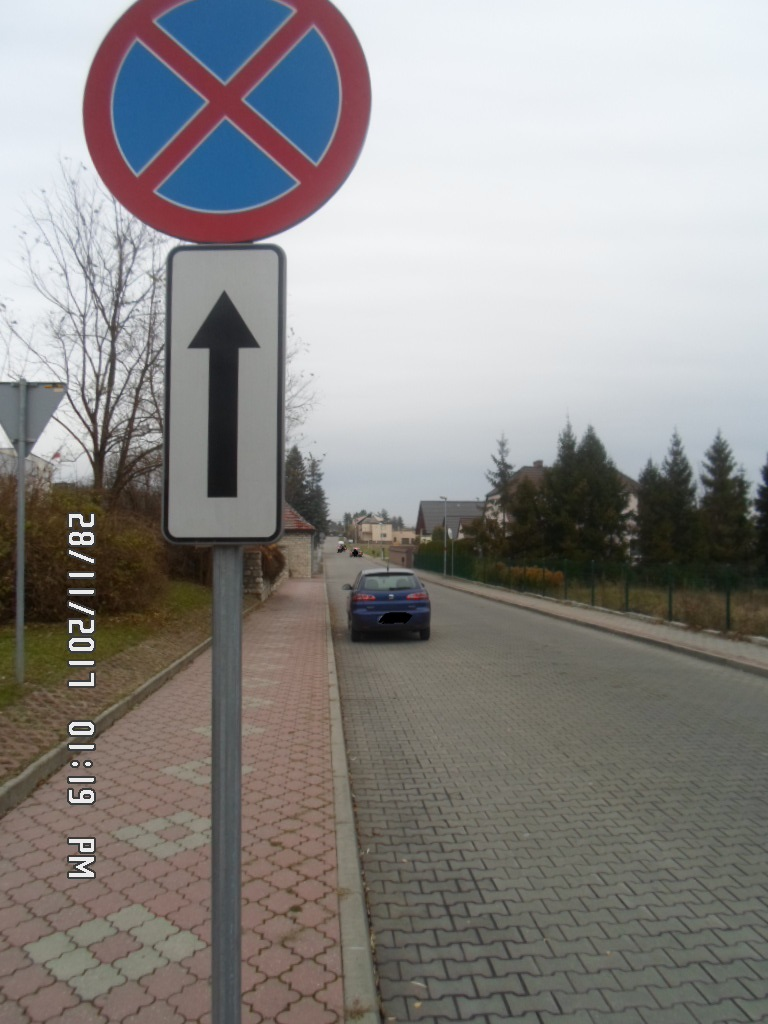no_stopping_sign: (82, 1, 375, 242)
